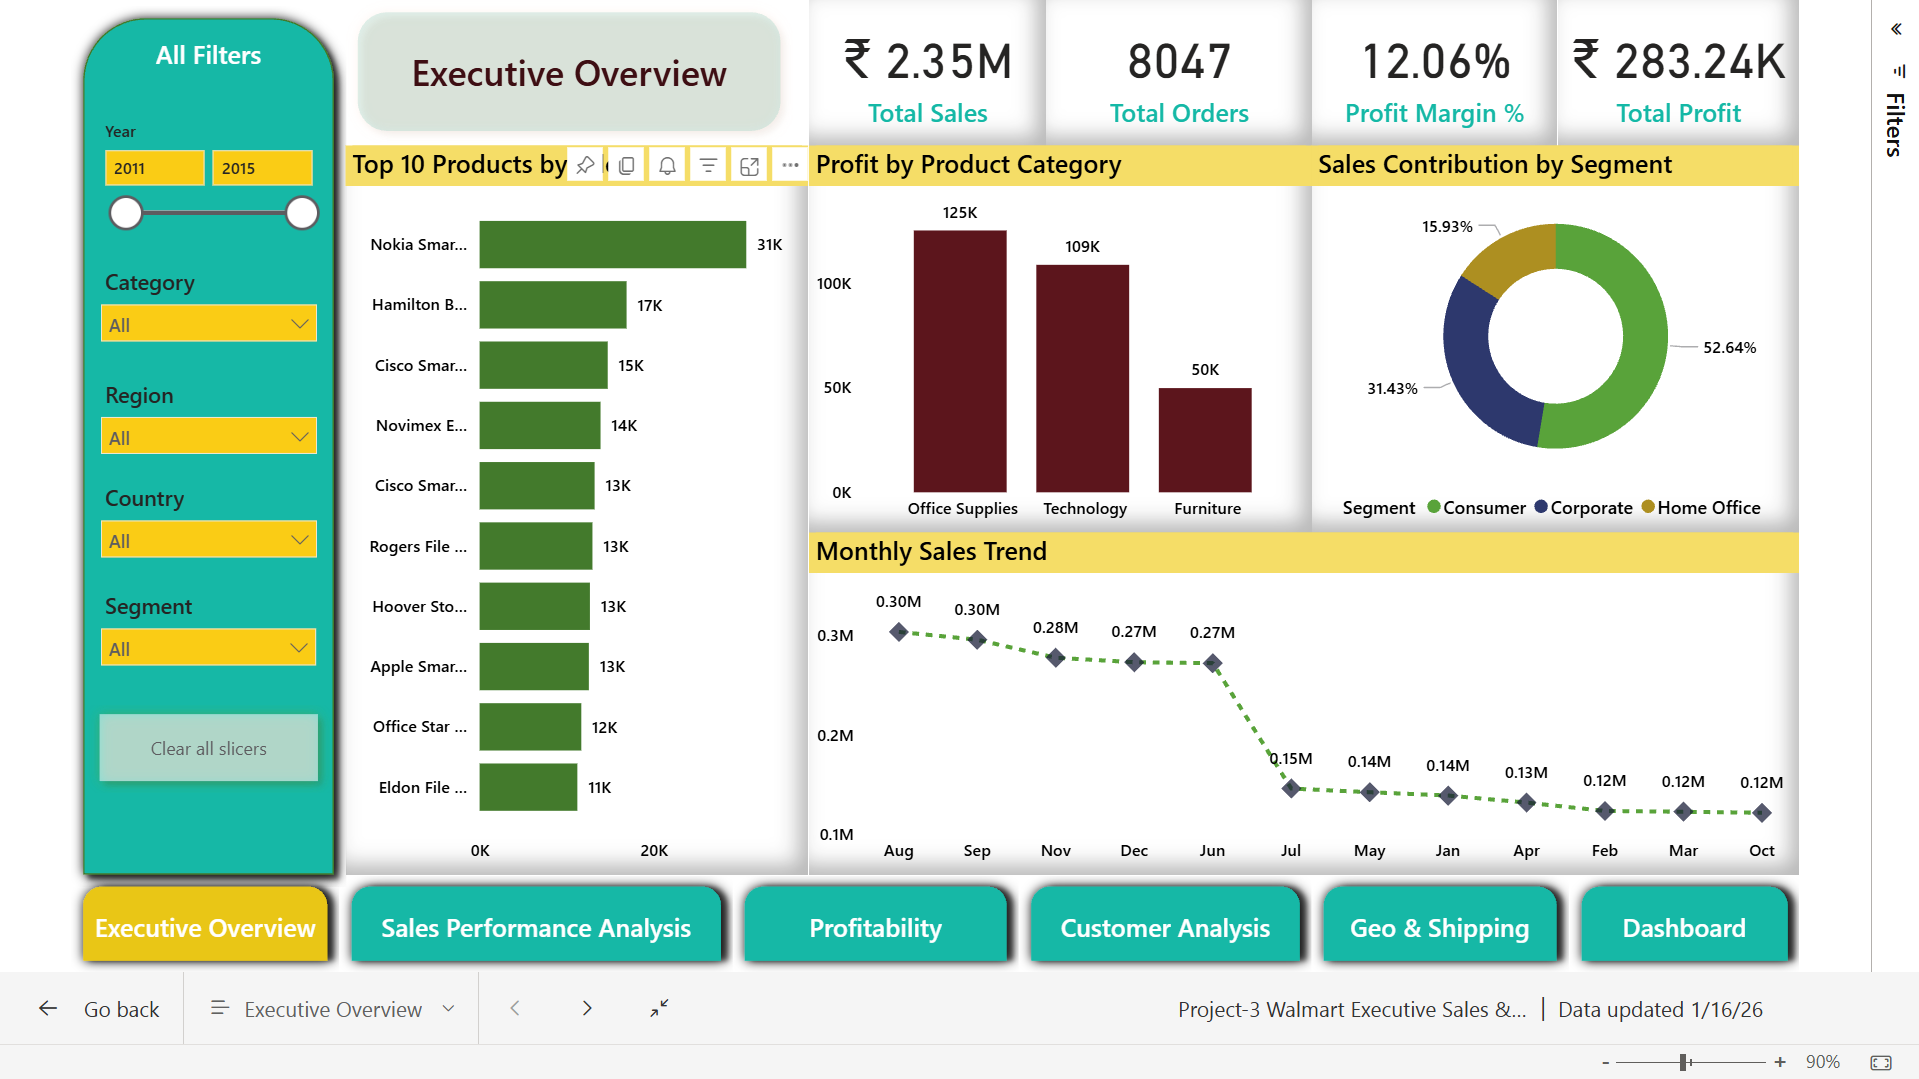

What the dashboard file says about the page in this screenshot:
{"tool":"powerbi","page":{"name":"Executive Overview","canvas":[1280,720],"ordinal":0},"visuals":[{"type":"shape","box":[0,647.7,198.8,72.9],"z":0},{"type":"shape","box":[198.8,647.7,291.5,72.9],"z":1},{"type":"shape","box":[490.3,647.7,212,72.9],"z":2},{"type":"shape","box":[702.3,647.7,217,72.9],"z":3},{"type":"shape","box":[919.3,647.7,190.5,72.9],"z":4},{"type":"shape","box":[1109.8,647.7,170.6,72.9],"z":5},{"type":"shape","box":[0,4,203.8,652.4],"z":6,"group":"g1"},{"type":"slicer","fields":{"Values":["Dim_Date.Year"]},"box":[11.9,82.4,180,99.8],"z":7,"group":"g1"},{"type":"slicer","fields":{"Values":["Dim_Product.Category"]},"box":[12.3,192.2,179.7,91.5],"z":9,"group":"g1"},{"type":"slicer","fields":{"Values":["Dim_Customer.Region"]},"box":[12.3,275.1,179.7,87.2],"z":10,"group":"g1"},{"type":"slicer","fields":{"Values":["Dim_Customer.Country"]},"box":[12.3,351.3,179.7,89.4],"z":11,"group":"g1"},{"type":"actionButton","box":[12.3,519.1,179.7,67.6],"z":13,"group":"g1"},{"type":"group","id":"g1","title":"Group 1","box":[0,4,203.7,654.3],"z":14,"group":"g2"},{"type":"slicer","fields":{"Values":["Dim_Customer.Segment"]},"box":[12.3,431.4,179,94.7],"z":16,"group":"g2"},{"type":"group","id":"g2","title":"Group 2","box":[0,4,203.7,654.3],"z":17},{"type":"card","fields":{"Values":["Fact_Sales.Total Sales"]},"box":[546.6,0,175.6,107.7],"z":18},{"type":"card","fields":{"Values":["Fact_Sales.Total Orders"]},"box":[722.2,0,197.1,107.7],"z":19},{"type":"card","fields":{"Values":["Fact_Sales.Total Profit"]},"box":[1101.6,0,178.9,107.7],"z":20},{"type":"card","fields":{"Values":["Fact_Sales.Profit Margin %"]},"box":[919.3,0,182.2,107.7],"z":21},{"type":"clusteredBarChart","title":"Top 10 Products by sales","fields":{"Category":["Fact_Sales.Product Name"],"Y":["Fact_Sales.Total Sales"]},"box":[203.7,107.7,342.9,540],"z":22},{"type":"clusteredColumnChart","title":"Profit by Product Category","fields":{"Category":["Fact_Sales.Category"],"Y":["Fact_Sales.Total Profit"]},"box":[546.6,107.7,372.7,286.6],"z":23},{"type":"lineChart","title":"Monthly Sales Trend","fields":{"Category":["Dim_Date.Month Name"],"Y":["Fact_Sales.Total Sales"]},"box":[546.6,394.2,733.8,253.4],"z":24},{"type":"donutChart","title":"Sales Contribution by Segment","fields":{"Category":["Dim_Customer.Segment"],"Y":["Fact_Sales.Total Sales"]},"box":[919.3,107.7,361.1,286.6],"z":25},{"type":"shape","box":[203.7,0,331.3,106],"z":26}]}

Visuals, with their boxes on the page's 1280x720 design canvas (x1, y1, x2, y2). These are canvas units, not pixel positions in the 1919x1079 screenshot, which may show the page scaled, cropped or inside an application window:
shape: <box>0,648,199,721</box>
shape: <box>199,648,490,721</box>
shape: <box>490,648,702,721</box>
shape: <box>702,648,919,721</box>
shape: <box>919,648,1110,721</box>
shape: <box>1110,648,1280,721</box>
shape: <box>0,4,204,656</box>
slicer - Dim_Date.Year: <box>12,82,192,182</box>
slicer - Dim_Product.Category: <box>12,192,192,284</box>
slicer - Dim_Customer.Region: <box>12,275,192,362</box>
slicer - Dim_Customer.Country: <box>12,351,192,441</box>
actionButton: <box>12,519,192,587</box>
"Group 1" group: <box>0,4,204,658</box>
slicer - Dim_Customer.Segment: <box>12,431,191,526</box>
"Group 2" group: <box>0,4,204,658</box>
card - Fact_Sales.Total Sales: <box>547,0,722,108</box>
card - Fact_Sales.Total Orders: <box>722,0,919,108</box>
card - Fact_Sales.Total Profit: <box>1102,0,1280,108</box>
card - Fact_Sales.Profit Margin %: <box>919,0,1102,108</box>
"Top 10 Products by sales" clusteredBarChart: <box>204,108,547,648</box>
"Profit by Product Category" clusteredColumnChart: <box>547,108,919,394</box>
"Monthly Sales Trend" lineChart: <box>547,394,1280,648</box>
"Sales Contribution by Segment" donutChart: <box>919,108,1280,394</box>
shape: <box>204,0,535,106</box>
